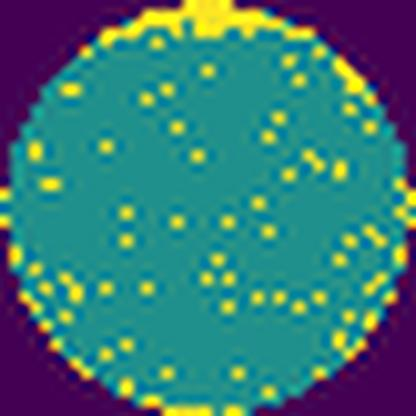Edge-Loc: (96, 0, 313, 52), (336, 60, 379, 113)
